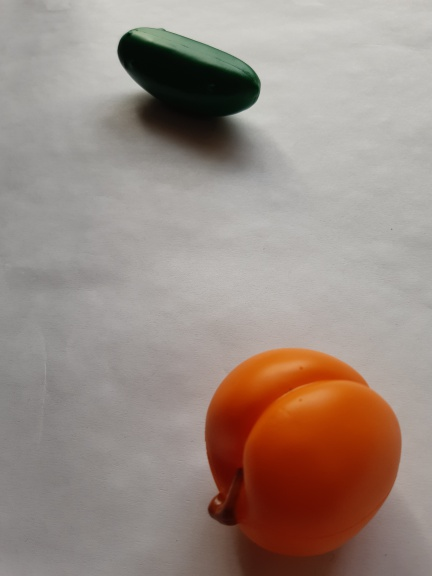apricot: (187, 340, 417, 569)
cucumber: (104, 20, 266, 126)
